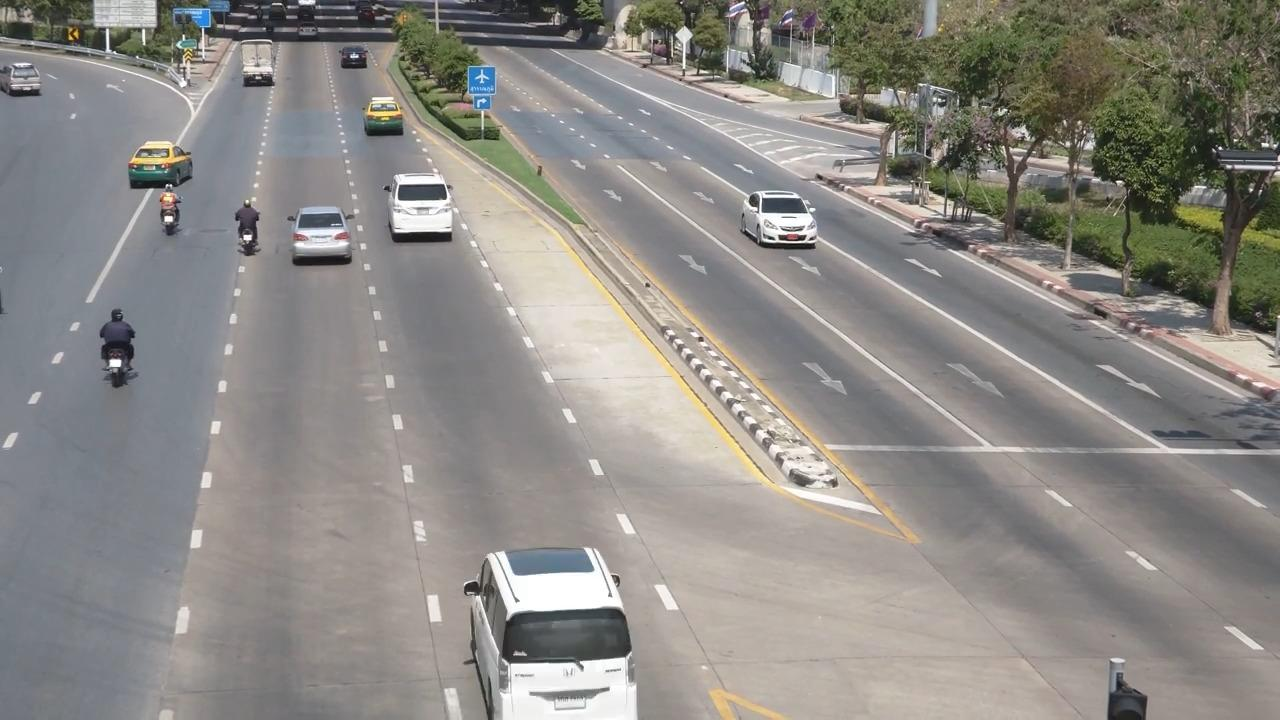CAR: (442, 523, 645, 720), (740, 179, 828, 262), (281, 201, 370, 281), (381, 164, 457, 255), (89, 138, 175, 205), (229, 33, 284, 103), (355, 94, 418, 152), (0, 51, 53, 108), (332, 35, 382, 80), (287, 15, 329, 54)
MOTOR: (85, 295, 146, 408), (220, 188, 278, 264), (146, 173, 189, 248)
